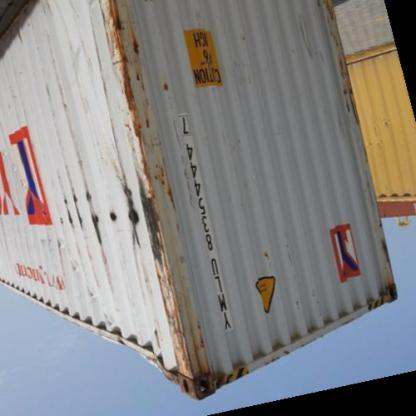Damage: (109, 1, 208, 391), (316, 3, 360, 148), (43, 182, 107, 246)
